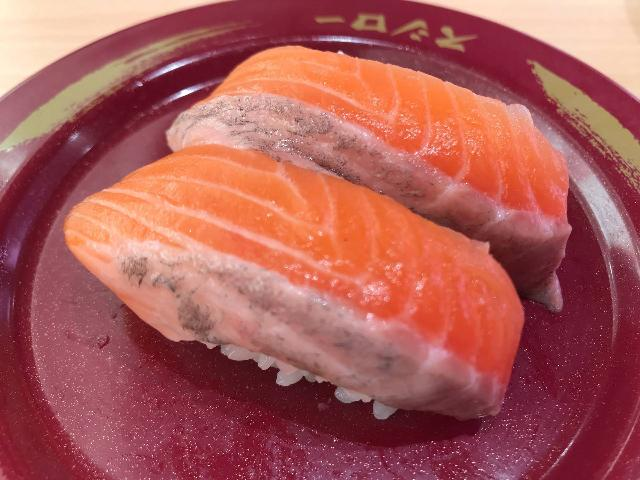janred: (20, 51, 628, 471)
